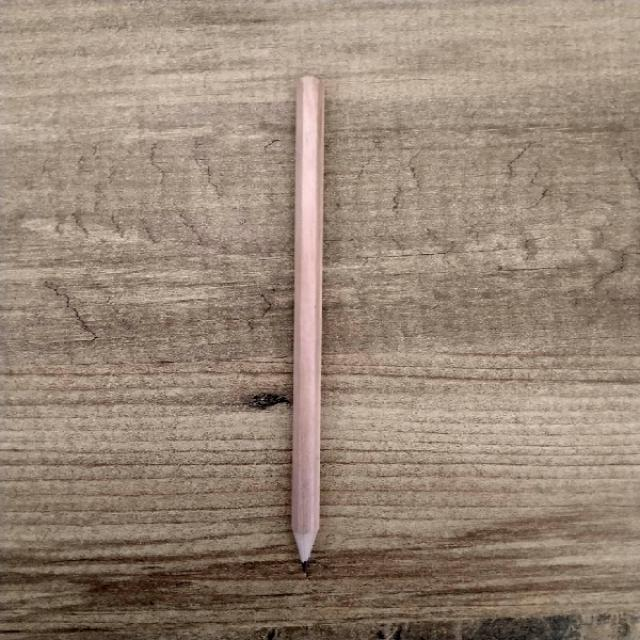pencil: (293, 77, 324, 569)
